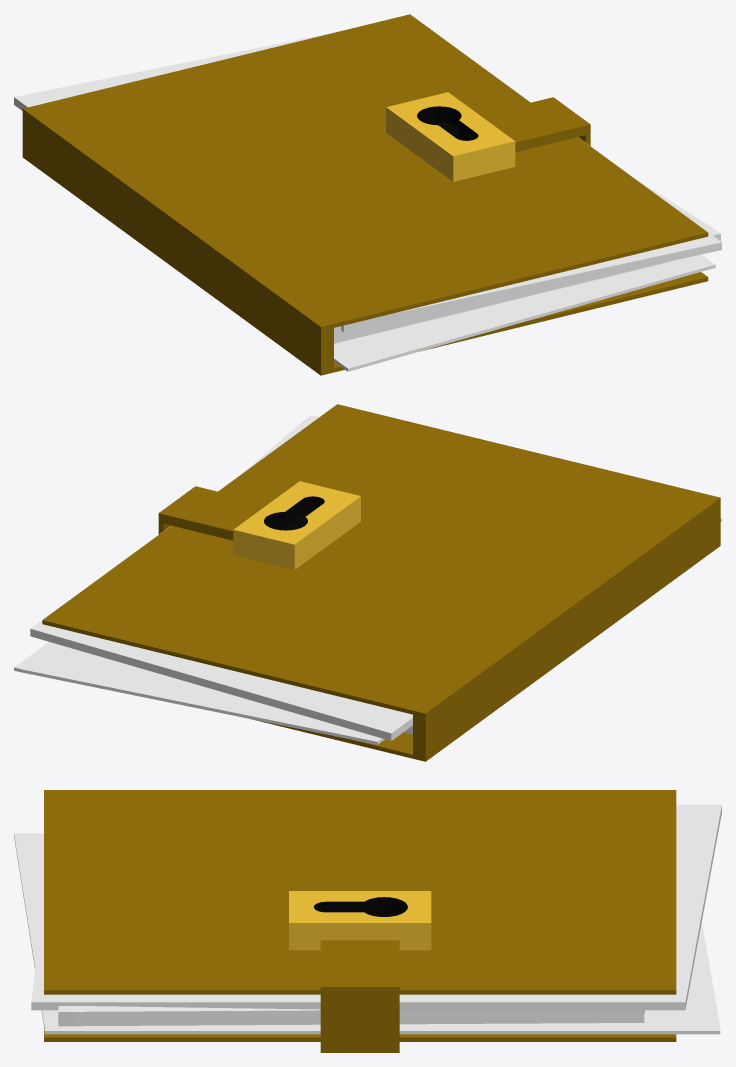
File: Document.fbx
The picture shows the model from 3 angles, top to bottom: view 1: azimuth 30°, elevation 25°; view 2: azimuth 150°, elevation 25°; view 3: azimuth 270°, elevation 25°; orthographic projection. The views are drawn at different scales.
Parts seen in each view (by area): view 1: Model; view 2: Model; view 3: Model.
Boxes of the visible parts, <box> form: Model: <box>14,14,721,375</box>; Model: <box>14,404,721,761</box>; Model: <box>14,790,721,1052</box>.
Bounding box in the file's own units: 315 × 58 × 448.
